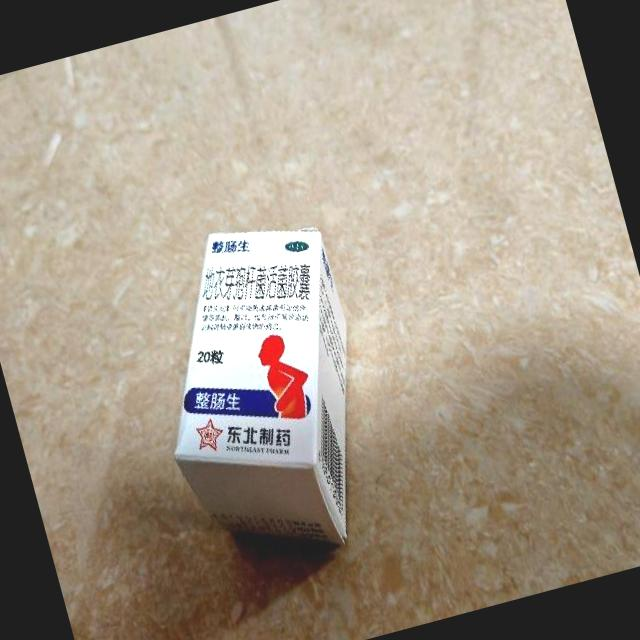box: (121, 202, 403, 577)
